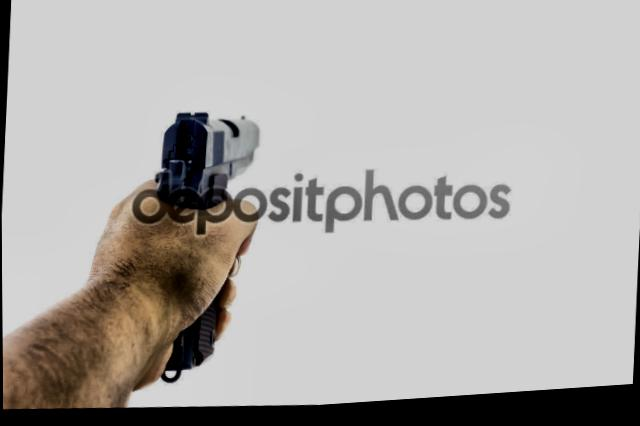pistol: (129, 109, 273, 392)
